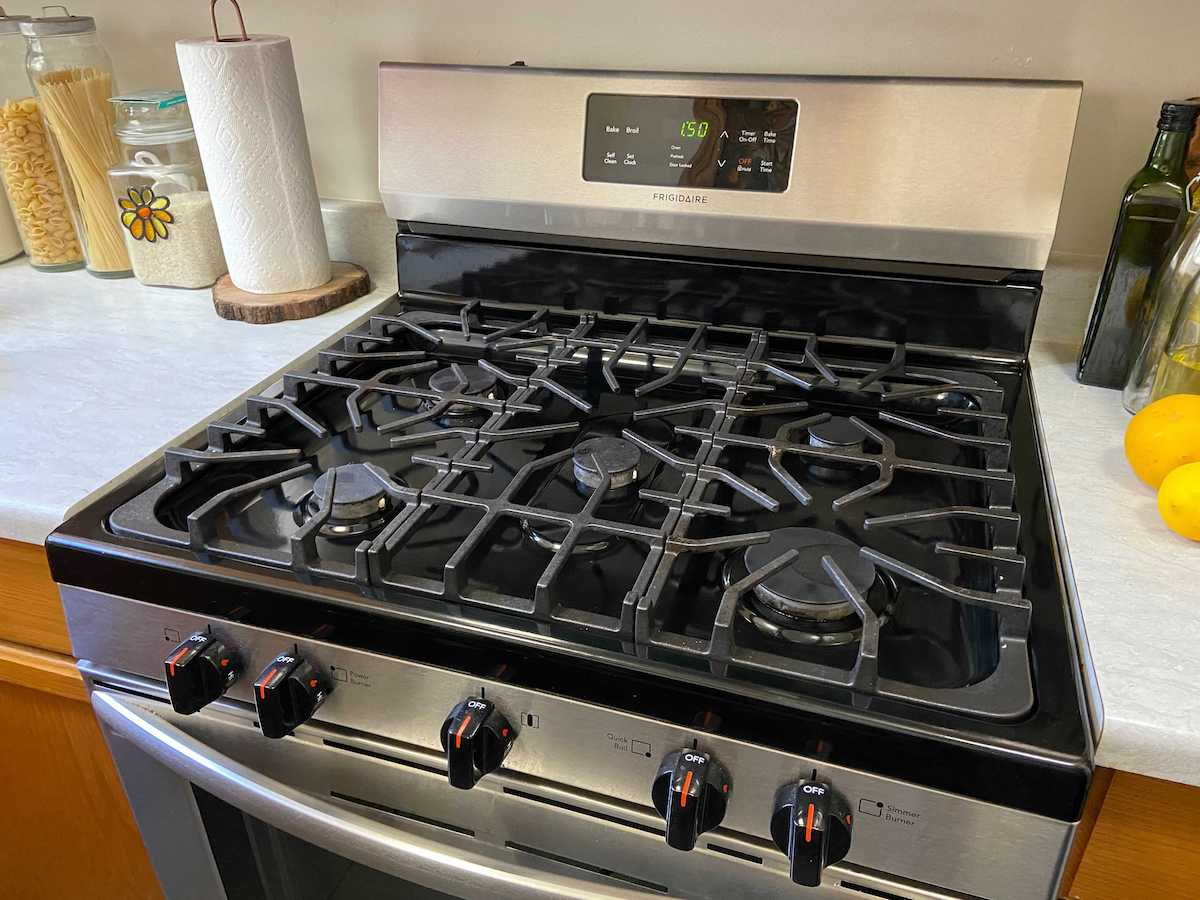stove: (129, 79, 1098, 893)
